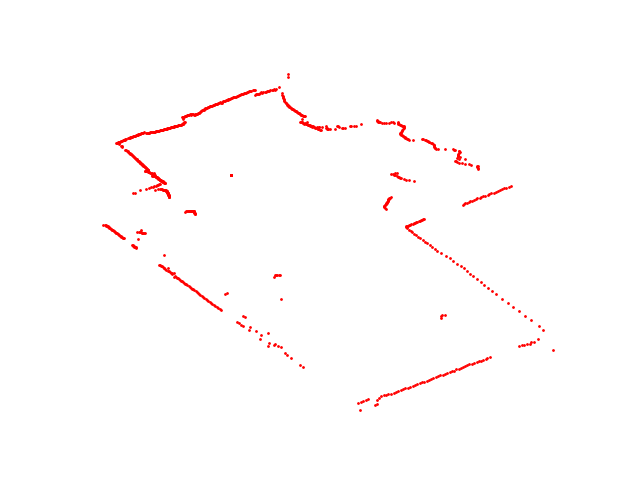person: (379, 170, 418, 213)
